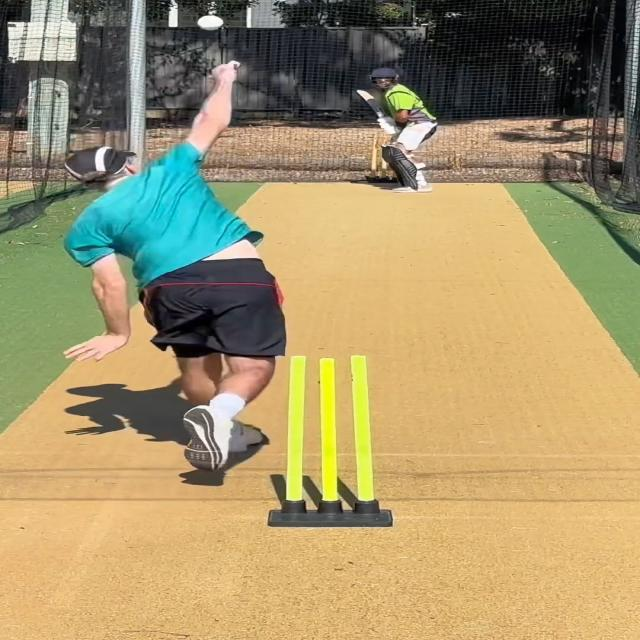ball: (196, 14, 224, 34)
stump: (268, 355, 391, 528)
